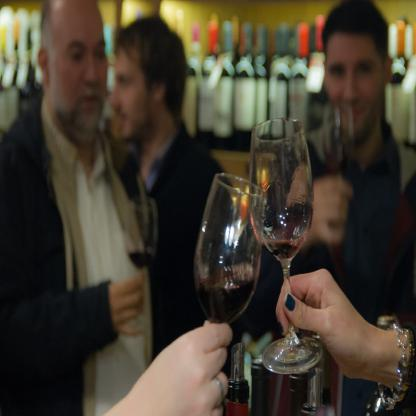drinking: (250, 118, 323, 374), (195, 173, 264, 408)
